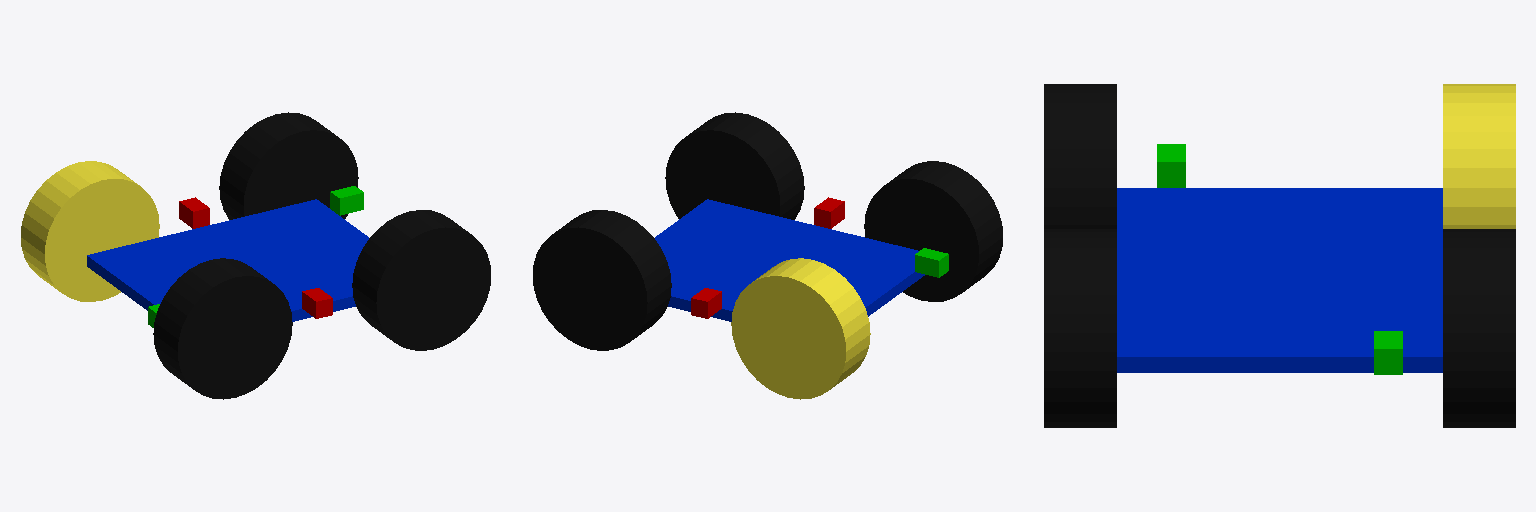
The robot description file, URDF, robot "MARS-2026-robot":
<?xml version="1.0"?>
<robot name="MARS-2026-robot">

  <material name="blue">
    <color rgba="0.0 0.2 0.8 1.0"/>
  </material>
  <material name="black">
    <color rgba="0.1 0.1 0.1 1.0"/>
  </material>
  <material name="red">
    <color rgba="0.8 0.0 0.0 1.0"/>
  </material>
  <material name="green">
    <color rgba="0.0 0.8 0.0 1.0"/>
  </material>

  <link name="base_link">
    <visual>
      <origin xyz="0 0 0" rpy="0 0 0"/>
      <geometry>
        <box size="0.5588 0.4572 0.0254"/> 
      </geometry>
      <material name="blue"/>
    </visual>
    <collision>
      <origin xyz="0 0 0" rpy="0 0 0"/>
      <geometry>
        <box size="0.5588 0.4572 0.0254"/>
      </geometry>
    </collision>
    <inertial>
      <mass value="5.0"/>
      <origin xyz="0 0 0" rpy="0 0 0"/>
      <inertia ixx="0.087" ixy="0.0" ixz="0.0" iyy="0.130" iyz="0.0" izz="0.217"/>
    </inertial>
  </link>

  <link name="front_left_wheel">
    <visual>
      <origin xyz="0 0 0" rpy="1.5708 0 0"/>
      <geometry>
        <cylinder radius="0.1397" length="0.1016"/>
      </geometry>
      <material name="black"/>
    </visual>
    <collision>
      <origin xyz="0 0 0" rpy="1.5708 0 0"/>
      <geometry>
        <cylinder radius="0.1397" length="0.1016"/>
      </geometry>
    </collision>
  </link>

  <link name="front_right_wheel">
    <visual>
      <origin xyz="0 0 0" rpy="1.5708 0 0"/>
      <geometry>
        <cylinder radius="0.1397" length="0.1016"/>
      </geometry>
      <material name="black"/>
    </visual>
    <collision>
      <origin xyz="0 0 0" rpy="1.5708 0 0"/>
      <geometry>
        <cylinder radius="0.1397" length="0.1016"/>
      </geometry>
    </collision>
  </link>

  <link name="rear_left_wheel">
    <visual>
      <origin xyz="0 0 0" rpy="1.5708 0 0"/>
      <geometry>
        <cylinder radius="0.1397" length="0.1016"/>
      </geometry>
      <material name="white"/>
    </visual>
    <collision>
      <origin xyz="0 0 0" rpy="1.5708 0 0"/>
      <geometry>
        <cylinder radius="0.1397" length="0.1016"/>
      </geometry>
    </collision>
  </link>

  <link name="rear_right_wheel">
    <visual>
      <origin xyz="0 0 0" rpy="1.5708 0 0"/>
      <geometry>
        <cylinder radius="0.1397" length="0.1016"/>
      </geometry>
      <material name="black"/>
    </visual>
    <collision>
      <origin xyz="0 0 0" rpy="1.5708 0 0"/>
      <geometry>
        <cylinder radius="0.1397" length="0.1016"/>
      </geometry>
    </collision>
  </link>

  <joint name="fl_wheel_joint" type="continuous">
    <parent link="base_link"/>
    <child link="front_left_wheel"/>
    <origin xyz="0.2413 0.2794 0.0381" rpy="0 0 0"/>
    <axis xyz="0 1 0"/>
  </joint>

  <joint name="fr_wheel_joint" type="continuous">
    <parent link="base_link"/>
    <child link="front_right_wheel"/>
    <origin xyz="0.2413 -0.2794 0.0381" rpy="0 0 0"/>
    <axis xyz="0 1 0"/>
  </joint>

  <joint name="rl_wheel_joint" type="continuous">
    <parent link="base_link"/>
    <child link="rear_left_wheel"/>
    <origin xyz="-0.2413 0.2794 0.0381" rpy="0 0 0"/>
    <axis xyz="0 1 0"/>
  </joint>

  <joint name="rr_wheel_joint" type="continuous">
    <parent link="base_link"/>
    <child link="rear_right_wheel"/>
    <origin xyz="-0.2413 -0.2794 0.0381" rpy="0 0 0"/>
    <axis xyz="0 1 0"/>
  </joint>

  <link name="camera_long_left">
    <visual>
      <origin xyz="0 0 0" rpy="0 0 0"/>
      <geometry>
        <box size="0.04 0.06 0.04"/>
      </geometry>
      <material name="red"/>
    </visual>
  </link>
  <joint name="cam_long_left_joint" type="fixed">
    <parent link="base_link"/>
    <child link="camera_long_left"/>
    <origin xyz="0 0.2586 0.0327" rpy="0 0 0"/>
  </joint>

  <link name="camera_long_right">
    <visual>
      <origin xyz="0 0 0" rpy="0 0 0"/>
      <geometry>
        <box size="0.04 0.06 0.04"/>
      </geometry>
      <material name="red"/>
    </visual>
  </link>
  <joint name="cam_long_right_joint" type="fixed">
    <parent link="base_link"/>
    <child link="camera_long_right"/>
    <origin xyz="0 -0.2586 0.0327" rpy="0 0 0"/>
  </joint>

  <link name="camera_short_front">
    <visual>
      <origin xyz="0 0 0" rpy="0 0 0"/>
      <geometry>
        <box size="0.06 0.04 0.04"/>
      </geometry>
      <material name="green"/>
    </visual>
  </link>
  <joint name="cam_short_front_joint" type="fixed">
    <parent link="base_link"/>
    <child link="camera_short_front"/>
    <origin xyz="0.3094 0.1524 0.0327" rpy="0 0 0"/>
  </joint>

  <link name="camera_short_rear">
    <visual>
      <origin xyz="0 0 0" rpy="0 0 0"/>
      <geometry>
        <box size="0.06 0.04 0.04"/>
      </geometry>
      <material name="green"/>
    </visual>
  </link>
  <joint name="cam_short_rear_joint" type="fixed">
    <parent link="base_link"/>
    <child link="camera_short_rear"/>
    <origin xyz="-0.3094 -0.1524 0.0327" rpy="0 0 0"/>
  </joint>

</robot>

--- What the picture shows (computed from the rendered views, not written in the file) ---
The picture shows the robot from 3 angles, left to right: view 1: azimuth 30°, elevation 25°; view 2: azimuth 150°, elevation 25°; view 3: azimuth 270°, elevation 25°; orthographic projection.
Model MARS-2026-robot with 9 links and 8 joints (4 continuous, 4 fixed), rooted at base_link, posed all joints at 0.
Visible links, largest first — view 1: base_link, front_right_wheel, rear_right_wheel, rear_left_wheel, front_left_wheel, camera_short_front, camera_long_left, camera_long_right; view 2: base_link, front_left_wheel, rear_left_wheel, rear_right_wheel, front_right_wheel, camera_short_rear, camera_long_left, camera_long_right; view 3: base_link, front_left_wheel, front_right_wheel, rear_left_wheel, rear_right_wheel, camera_short_front, camera_short_rear.
Boxes of the visible links, x1,y1,x2,y2 form: base_link: (87,199,368,321); front_right_wheel: (352,210,490,350); rear_right_wheel: (153,258,292,399); rear_left_wheel: (21,161,159,301); front_left_wheel: (219,112,358,219); camera_short_front: (330,186,363,215); camera_long_left: (179,197,209,228); camera_long_right: (302,288,332,318); base_link: (655,199,924,321); front_left_wheel: (533,210,671,350); rear_left_wheel: (731,258,870,399); rear_right_wheel: (864,161,1002,301); front_right_wheel: (665,112,804,219); camera_short_rear: (915,248,948,277); camera_long_left: (691,288,721,318); camera_long_right: (814,197,844,228); base_link: (1117,188,1442,372); front_left_wheel: (1443,229,1515,427); front_right_wheel: (1044,229,1116,427); rear_left_wheel: (1443,84,1515,228); rear_right_wheel: (1044,84,1116,228); camera_short_front: (1374,331,1402,374); camera_short_rear: (1157,144,1185,187).
Bounding box of the posed robot: 0.762 × 0.6604 × 0.2794 m (x, y, z).
Geometry: primitives only (box / cylinder / sphere), no mesh files.
